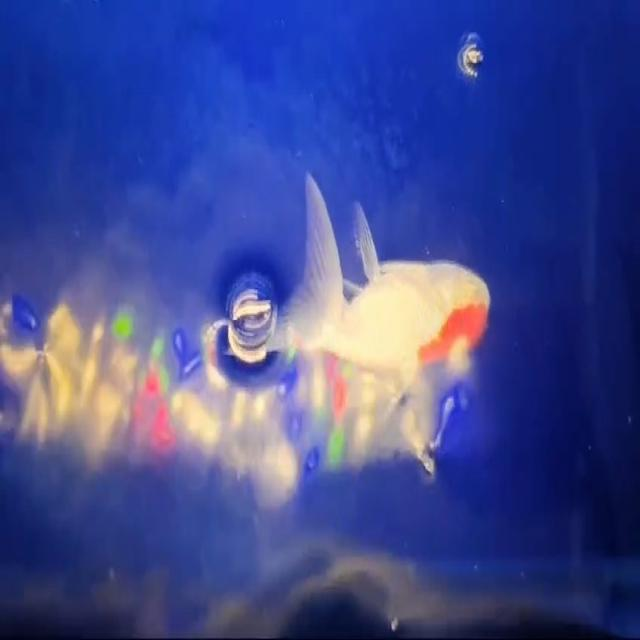fish: (275, 166, 496, 412)
